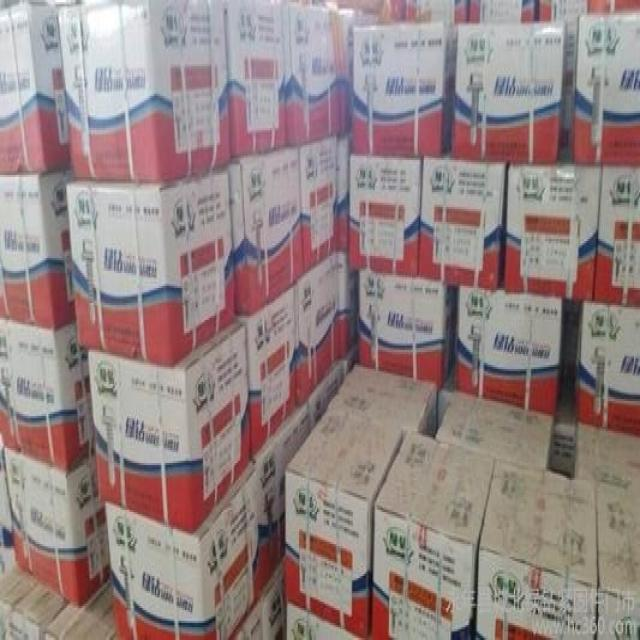box: (88, 323, 252, 533), (64, 168, 234, 364), (56, 1, 230, 182), (107, 462, 263, 638), (284, 407, 402, 637), (373, 431, 496, 637), (477, 460, 596, 638), (2, 448, 109, 606), (455, 21, 569, 165), (0, 320, 96, 471), (457, 285, 563, 414), (353, 25, 458, 155), (505, 163, 602, 302), (229, 145, 304, 318), (0, 163, 74, 333), (418, 157, 507, 289), (0, 2, 69, 170), (360, 272, 458, 390), (253, 400, 310, 586), (234, 286, 296, 454), (575, 15, 639, 166), (227, 2, 286, 157), (438, 391, 554, 468), (349, 154, 421, 276), (282, 5, 342, 147), (574, 302, 639, 431), (329, 364, 438, 439), (295, 252, 340, 408), (596, 483, 639, 638), (594, 168, 639, 305), (300, 134, 338, 273), (576, 425, 638, 488)
